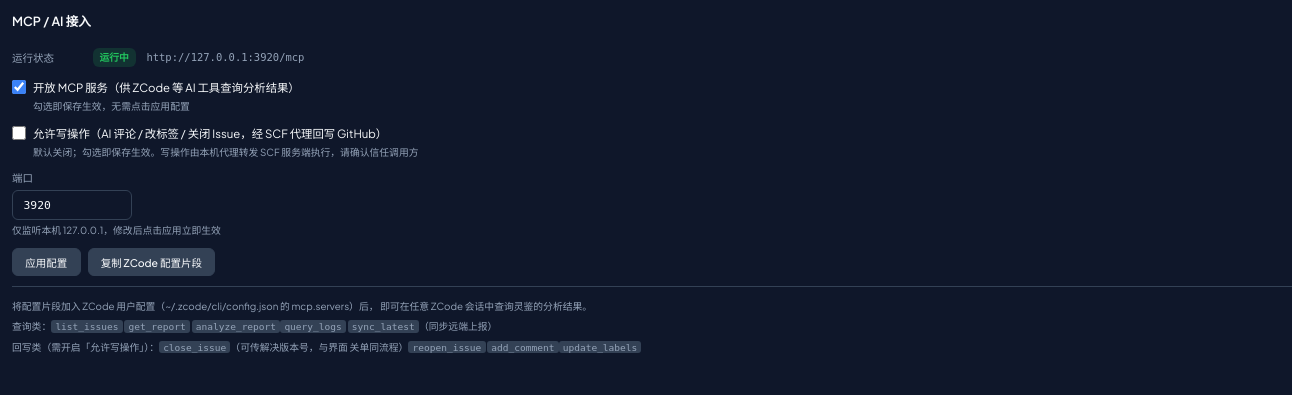
McpCard › 保存失败时报错并回读磁盘状态回填表单
Click the checkbox labelled "允许写操作（AI 评论 / 改标签 / 关闭 Issue，经 SCF 代理回写 GitHub）" at [19, 133], box [12, 126, 26, 140]
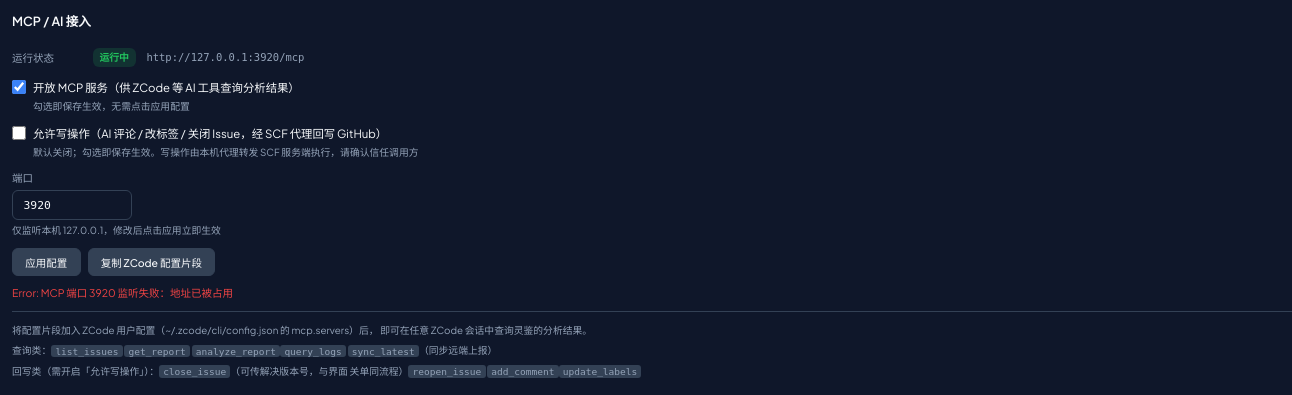
Check: the text "Error: MCP 端口 3920 监听失败：地址已被占用" is shown, box [12, 286, 233, 298]
